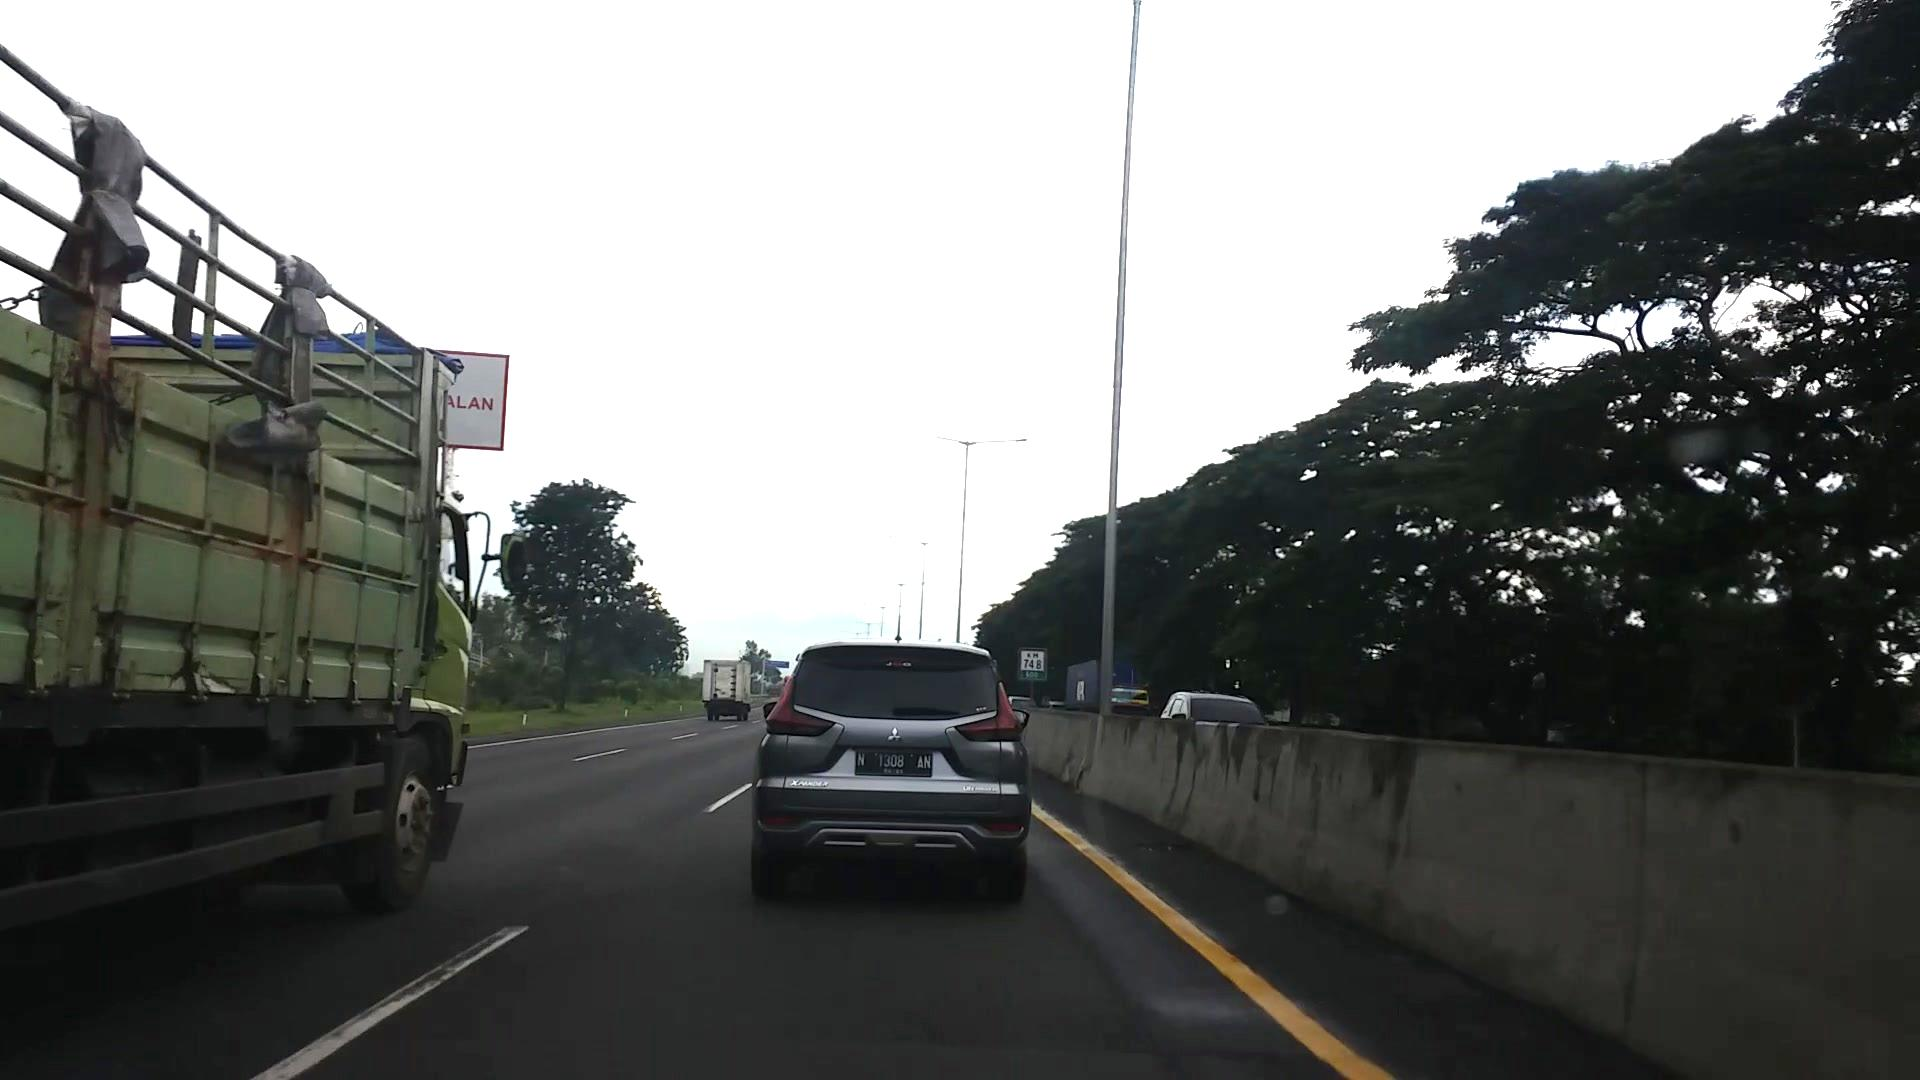plate_positive: (855, 749, 932, 777)
